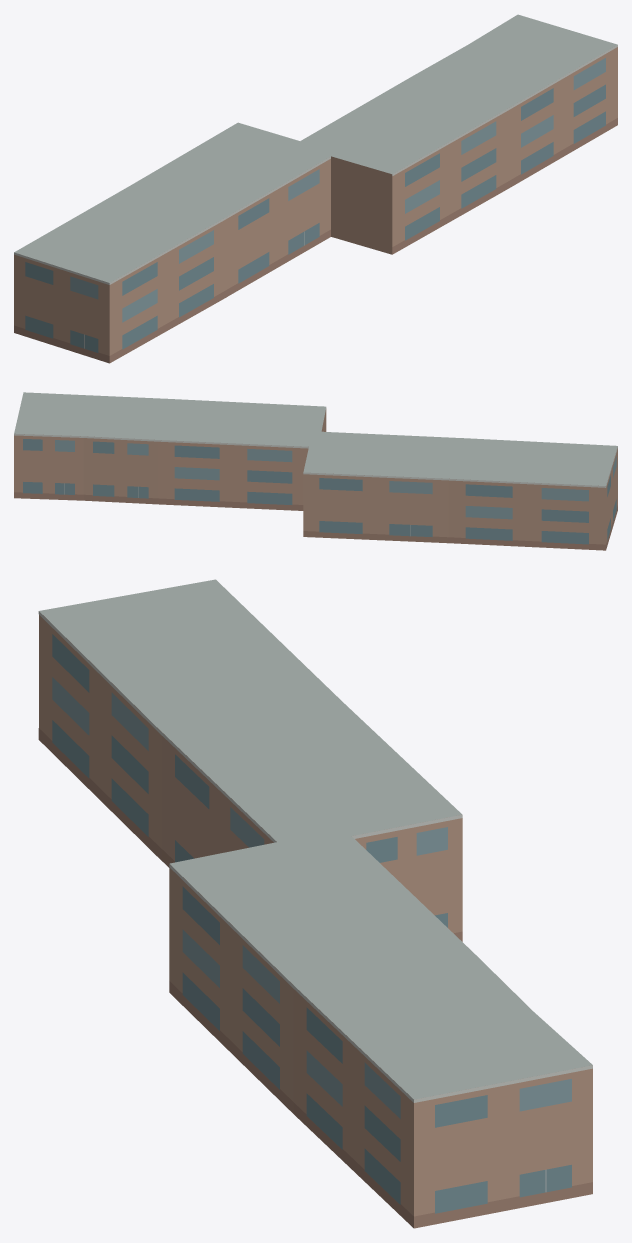
The model's file is survey-upis-32936396.glb.
3 views of the same model, one above another, from view 1: azimuth 30°, elevation 25°; view 2: azimuth 150°, elevation 25°; view 3: azimuth 270°, elevation 25° (orthographic). The views are drawn at different scales.
Visible parts, largest first — view 1: survey-upis-32936396.tmp; view 2: survey-upis-32936396.tmp; view 3: survey-upis-32936396.tmp.
Part boxes in pixels (<box>): survey-upis-32936396.tmp: <box>14,14,617,363</box>; survey-upis-32936396.tmp: <box>14,392,617,550</box>; survey-upis-32936396.tmp: <box>38,579,592,1228</box>.
Size of the model in its own units: 79.2 by 9.15 by 35.66.
